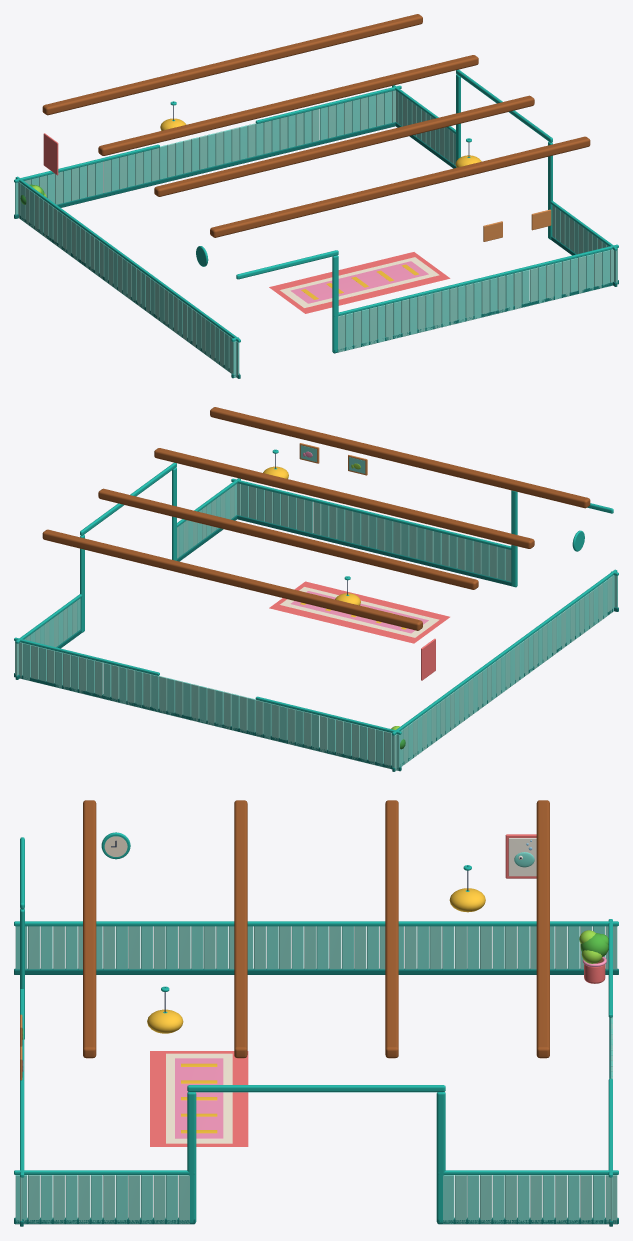
File: UnitBDressing.fbx
The picture shows the model from 3 angles, top to bottom: view 1: azimuth 30°, elevation 25°; view 2: azimuth 150°, elevation 25°; view 3: azimuth 270°, elevation 25°; orthographic projection. The views are drawn at different scales.
Parts seen in each view (by area): view 1: UnitBDressing mesh; view 2: UnitBDressing mesh; view 3: UnitBDressing mesh.
Part boxes in pixels (bbox=[...]): UnitBDressing mesh: bbox=[14, 14, 618, 378]; UnitBDressing mesh: bbox=[14, 407, 618, 771]; UnitBDressing mesh: bbox=[14, 800, 618, 1226].
Size of the model in its own units: 10 by 3.2 by 10.
